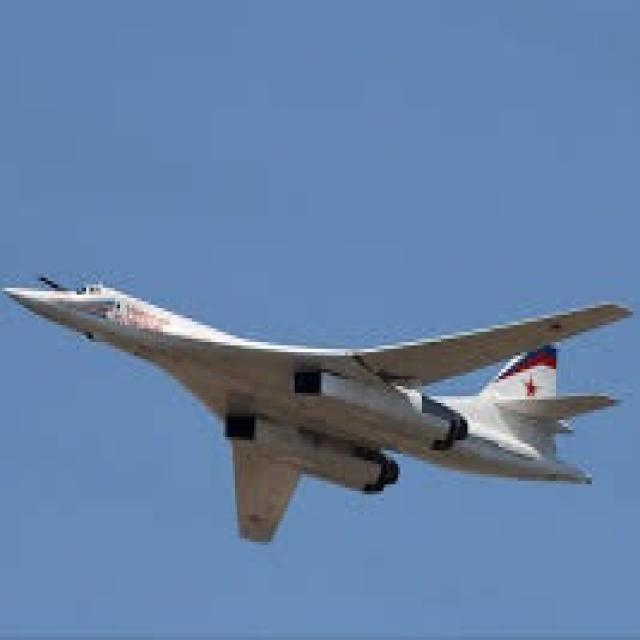Tu160: (6, 188, 640, 616)
